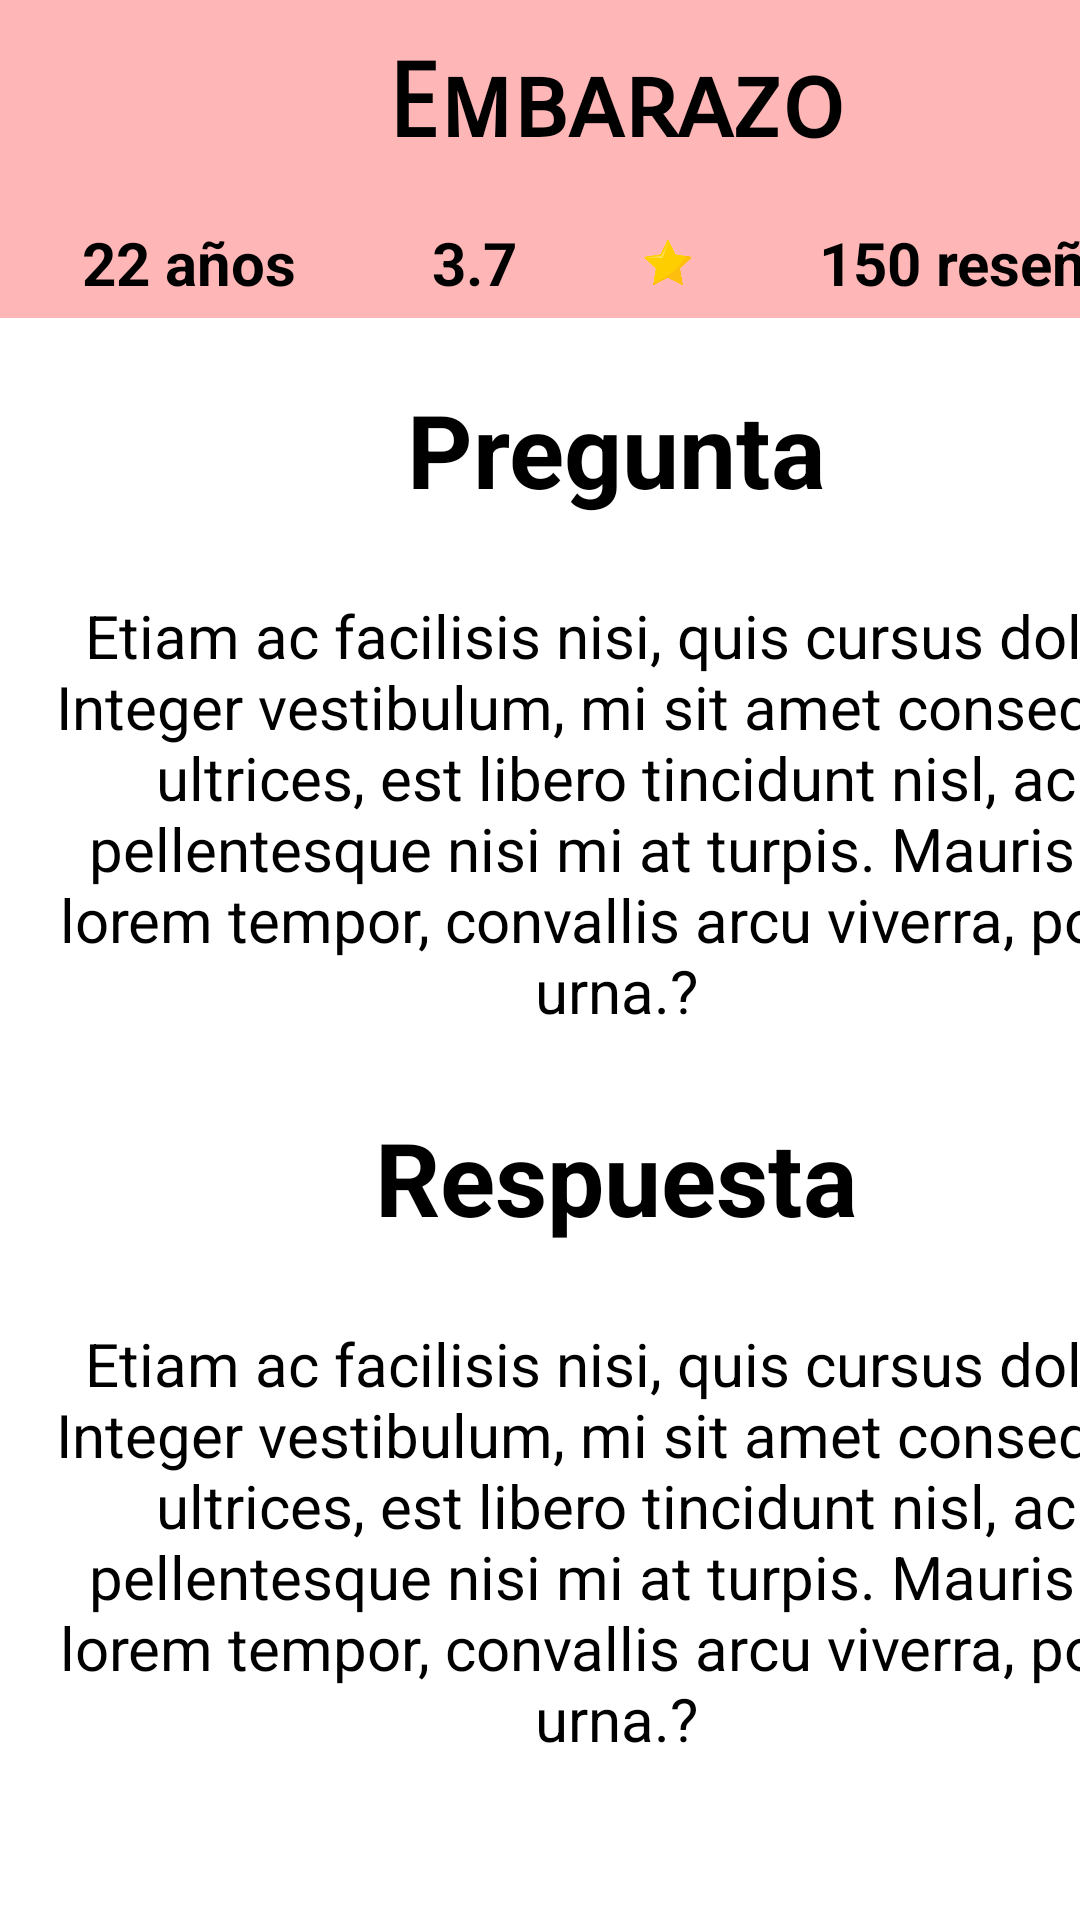

Where icons sit on this 1080 × 1920 app screen, as (x1, y1, x2, y2):
estrellita: (644, 240, 692, 285)
